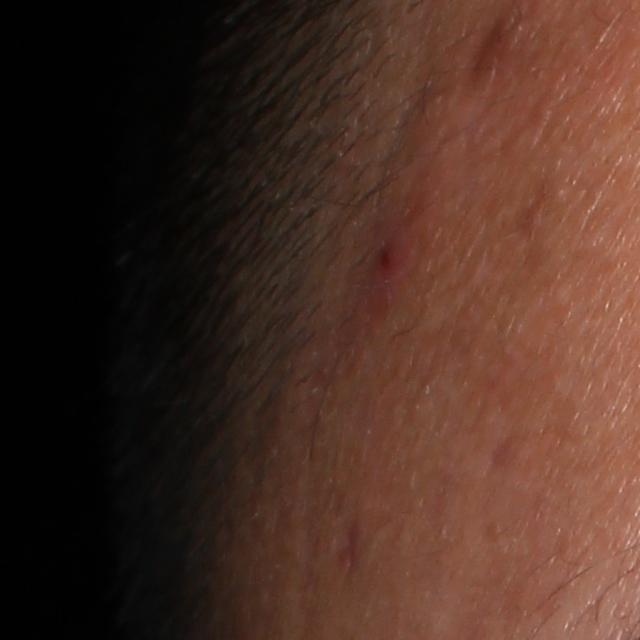atrophic_scar: (335, 517, 362, 573)
